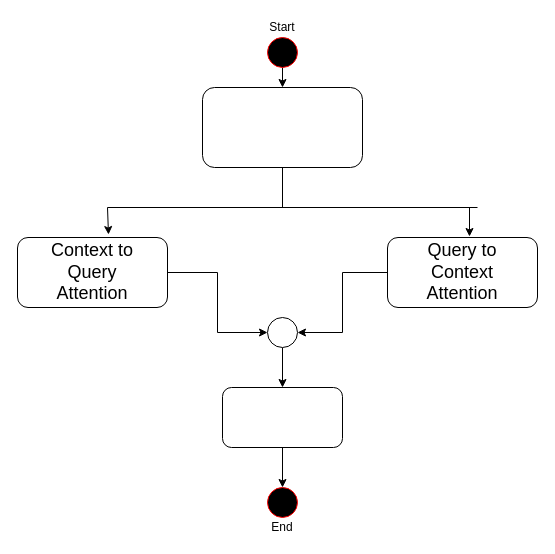
This 555x554 diagram has some shape labels left out. Each missing label, with the centre of its shape:
Build Similarity Matrix: the point at 282,127
MegaMerge: the point at 282,417
